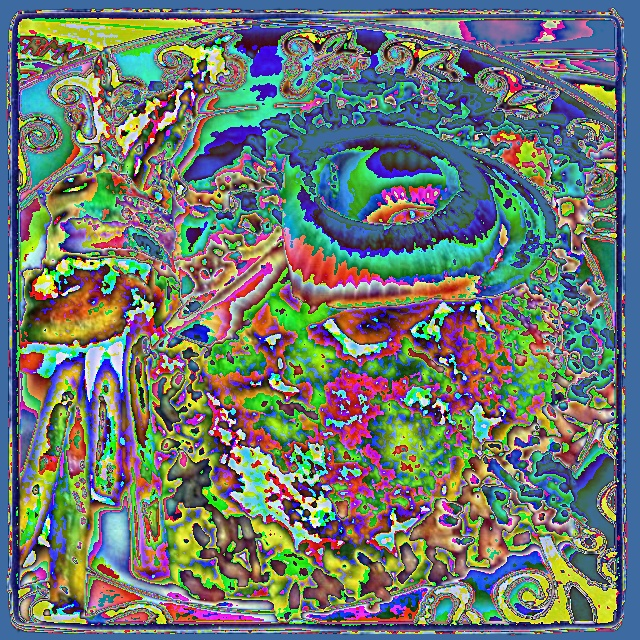background: (19, 32, 616, 623)
